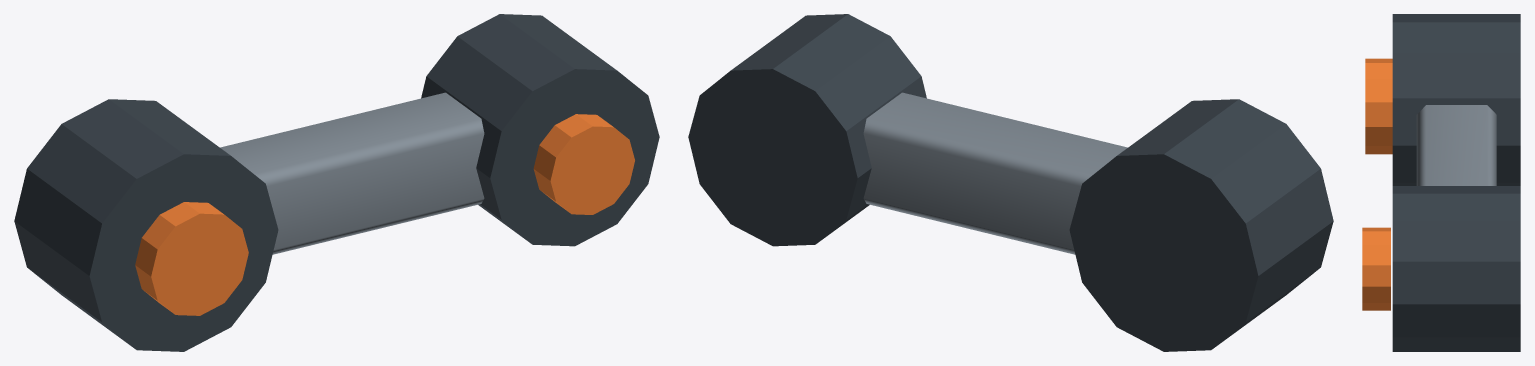
The model's file is VXAUX_MOUNT_BRACKET_v002.fbx.
3 renders of one model, left to right at view 1: azimuth 30°, elevation 25°; view 2: azimuth 150°, elevation 25°; view 3: azimuth 270°, elevation 25°, orthographic. The views are drawn at different scales.
Parts seen in each view (by area): view 1: Base swivel, End swivel, ExtensionBeam, Base bolt, End bolt; view 2: Base swivel, End swivel, ExtensionBeam; view 3: End swivel, Base swivel, ExtensionBeam, Base bolt, End bolt.
Boxes of the visible parts, box(x1,y1,x2,y2) form: Base swivel: box(14, 99, 278, 351); End swivel: box(421, 14, 659, 246); ExtensionBeam: box(220, 92, 484, 254); Base bolt: box(135, 202, 248, 315); End bolt: box(533, 114, 634, 214); Base swivel: box(1069, 99, 1333, 351); End swivel: box(688, 14, 926, 246); ExtensionBeam: box(863, 92, 1127, 254); End swivel: box(1392, 186, 1520, 351); Base swivel: box(1392, 14, 1520, 185); ExtensionBeam: box(1416, 105, 1496, 185); Base bolt: box(1365, 58, 1392, 154); End bolt: box(1362, 227, 1390, 310).
Size of the model in its own units: 17.5 by 5.8 by 4.95.
